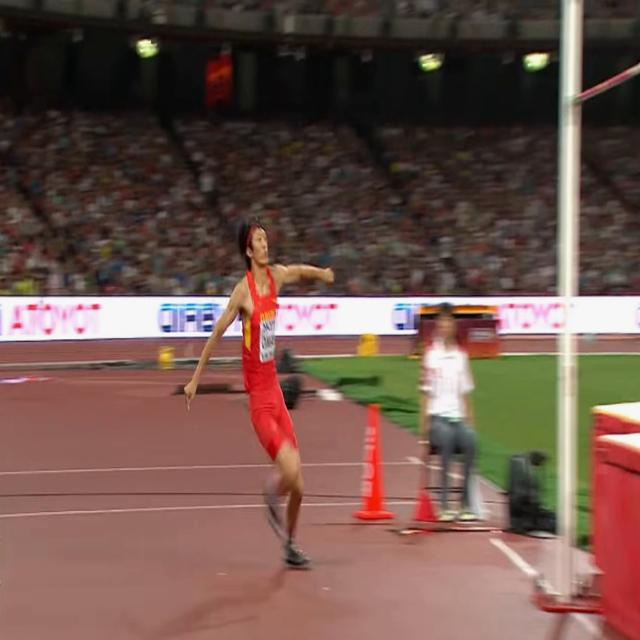run: (184, 210, 335, 570)
